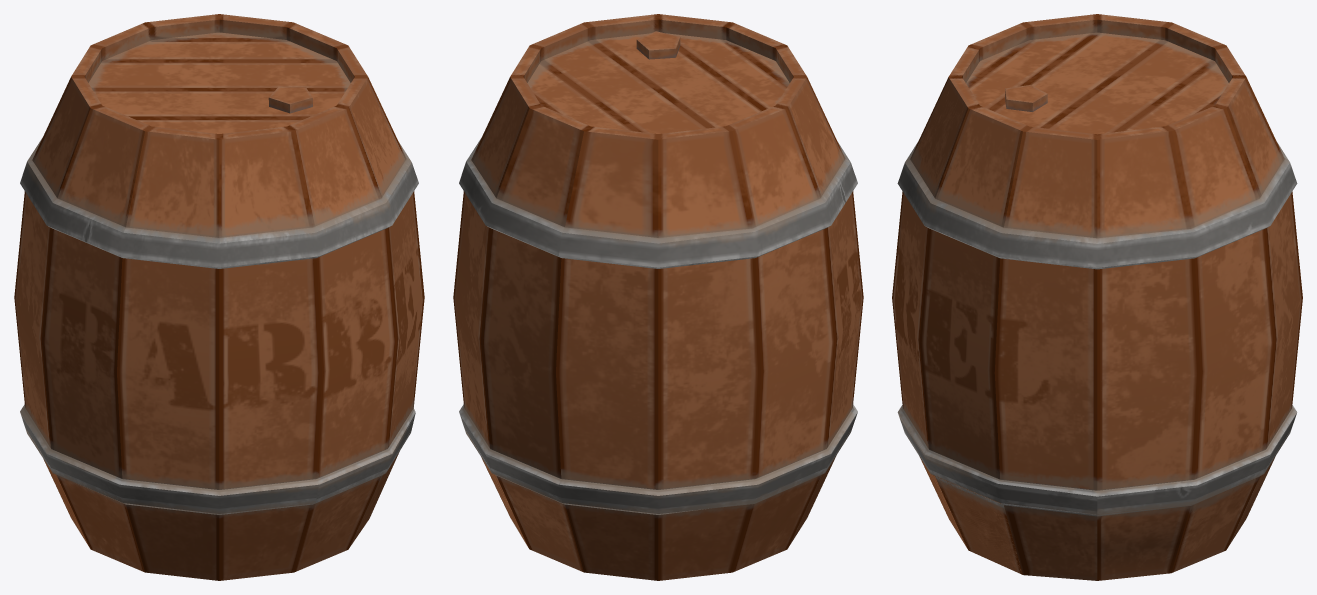
The model's file is Barrel.fbx.
The picture shows the model from 3 angles, left to right: view 1: azimuth 30°, elevation 25°; view 2: azimuth 150°, elevation 25°; view 3: azimuth 270°, elevation 25°; orthographic projection.
Visible parts, largest first — view 1: Barrel; view 2: Barrel; view 3: Barrel.
Boxes of the visible parts, x1=… form: Barrel: x1=14, y1=14, x2=424, y2=580; Barrel: x1=453, y1=14, x2=863, y2=580; Barrel: x1=892, y1=14, x2=1302, y2=580.
Bounding box in the file's own units: 75.86 × 90.38 × 75.86.
